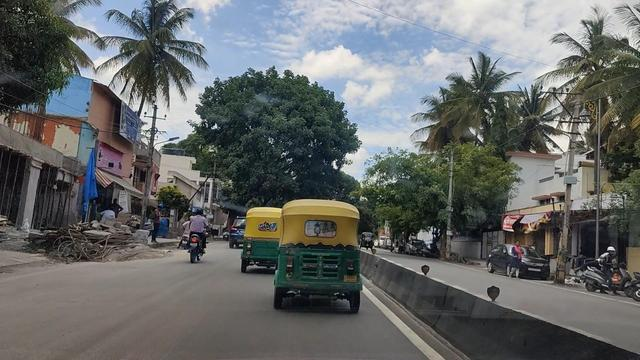LMV: (284, 199, 364, 314), (182, 206, 221, 267), (244, 212, 282, 269)
